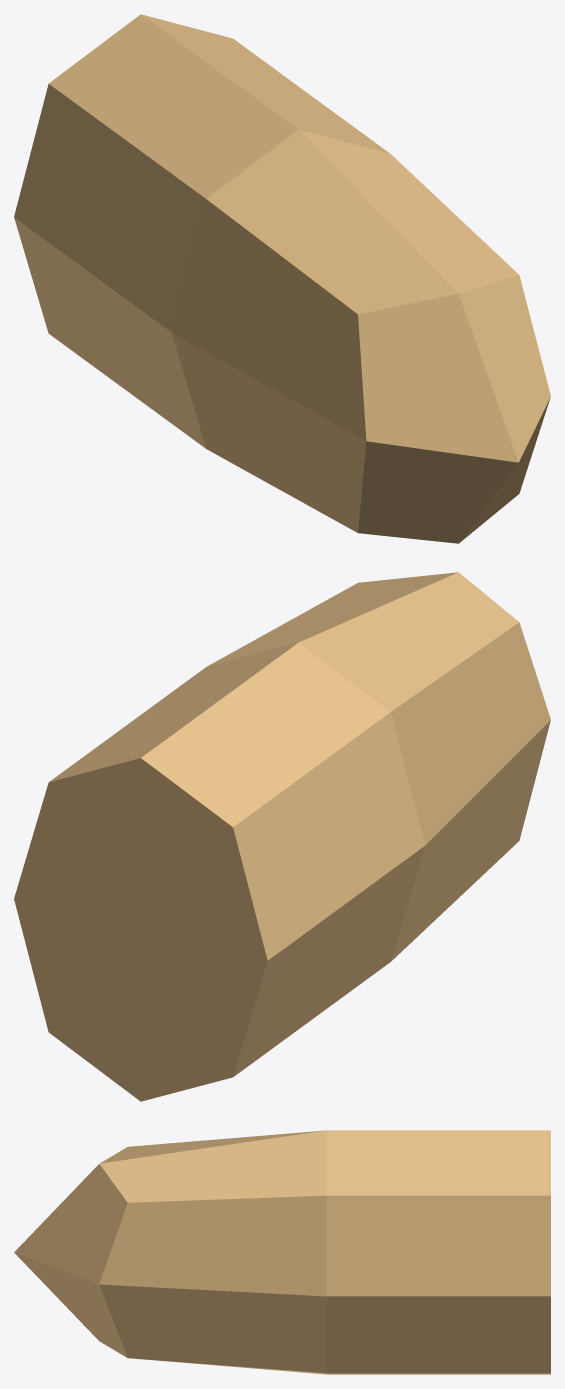
The model's file is Bullet.glb.
3 renders of one model, top to bottom at view 1: azimuth 30°, elevation 25°; view 2: azimuth 150°, elevation 25°; view 3: azimuth 270°, elevation 25°, orthographic. The views are drawn at different scales.
Visible parts, largest first — view 1: Cube; view 2: Cube; view 3: Cube.
Boxes of the visible parts, x1,y1,x2,y2 form: Cube: [14, 14, 550, 543]; Cube: [14, 572, 550, 1101]; Cube: [14, 1130, 550, 1374].
Size of the model in its own units: 0.9286 by 1.2 by 2.4.
